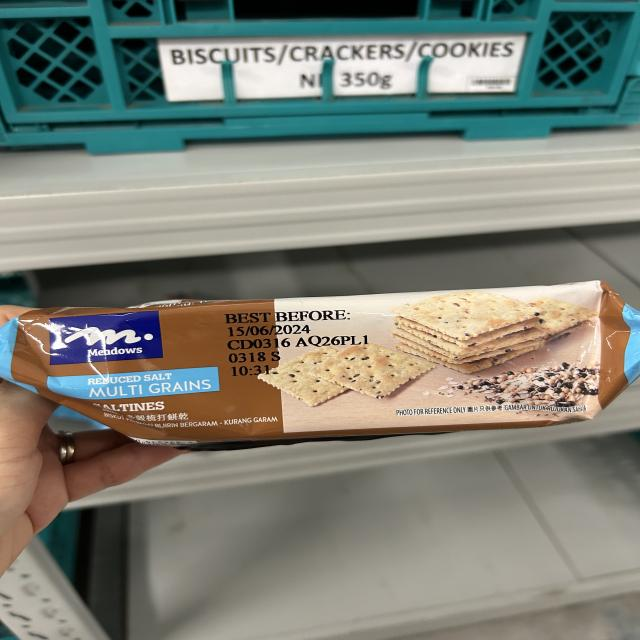object_name: (47, 312, 602, 422)
